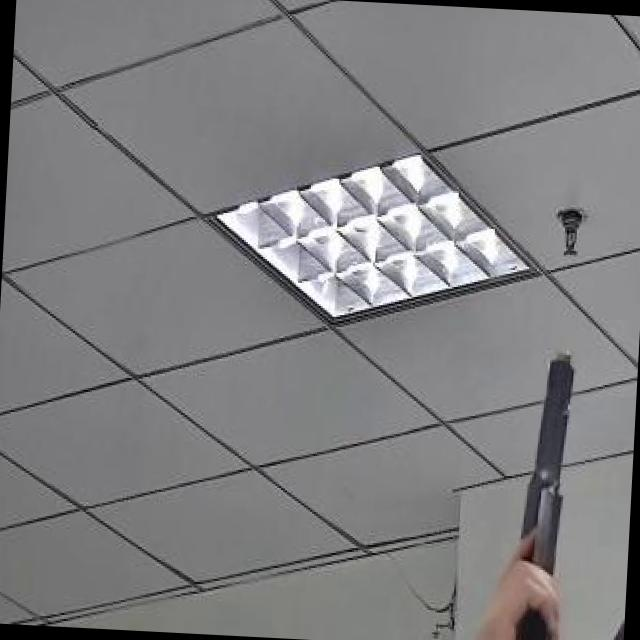Guns: (487, 325, 602, 640)
